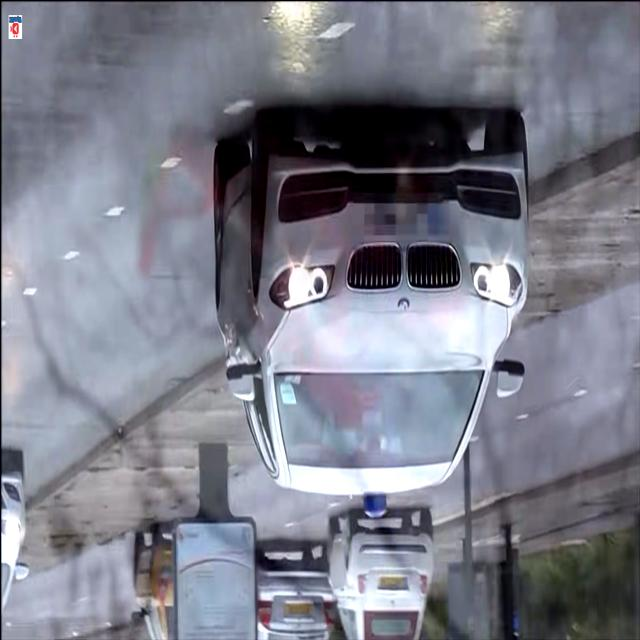emergency-vehicles: (197, 87, 553, 535)
